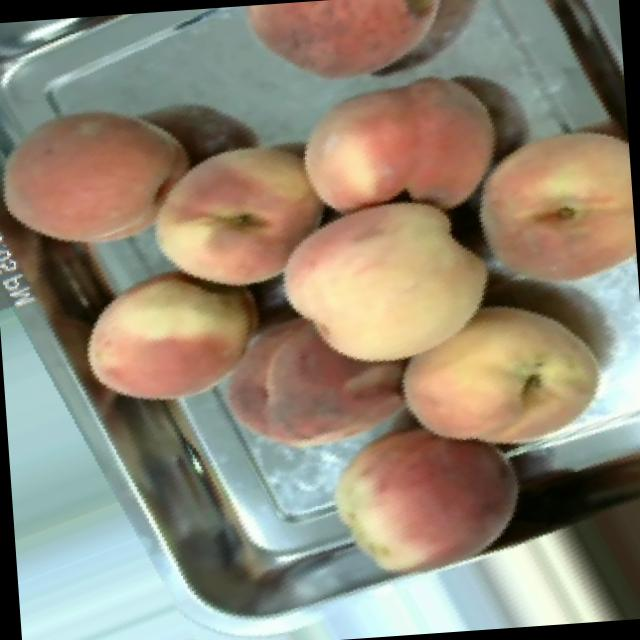Fruit: (374, 271, 633, 488), (256, 188, 517, 394), (308, 386, 550, 607), (126, 106, 360, 319), (276, 34, 532, 228), (199, 284, 437, 476), (61, 242, 287, 432), (448, 96, 640, 318), (0, 77, 216, 274), (224, 0, 480, 100)
